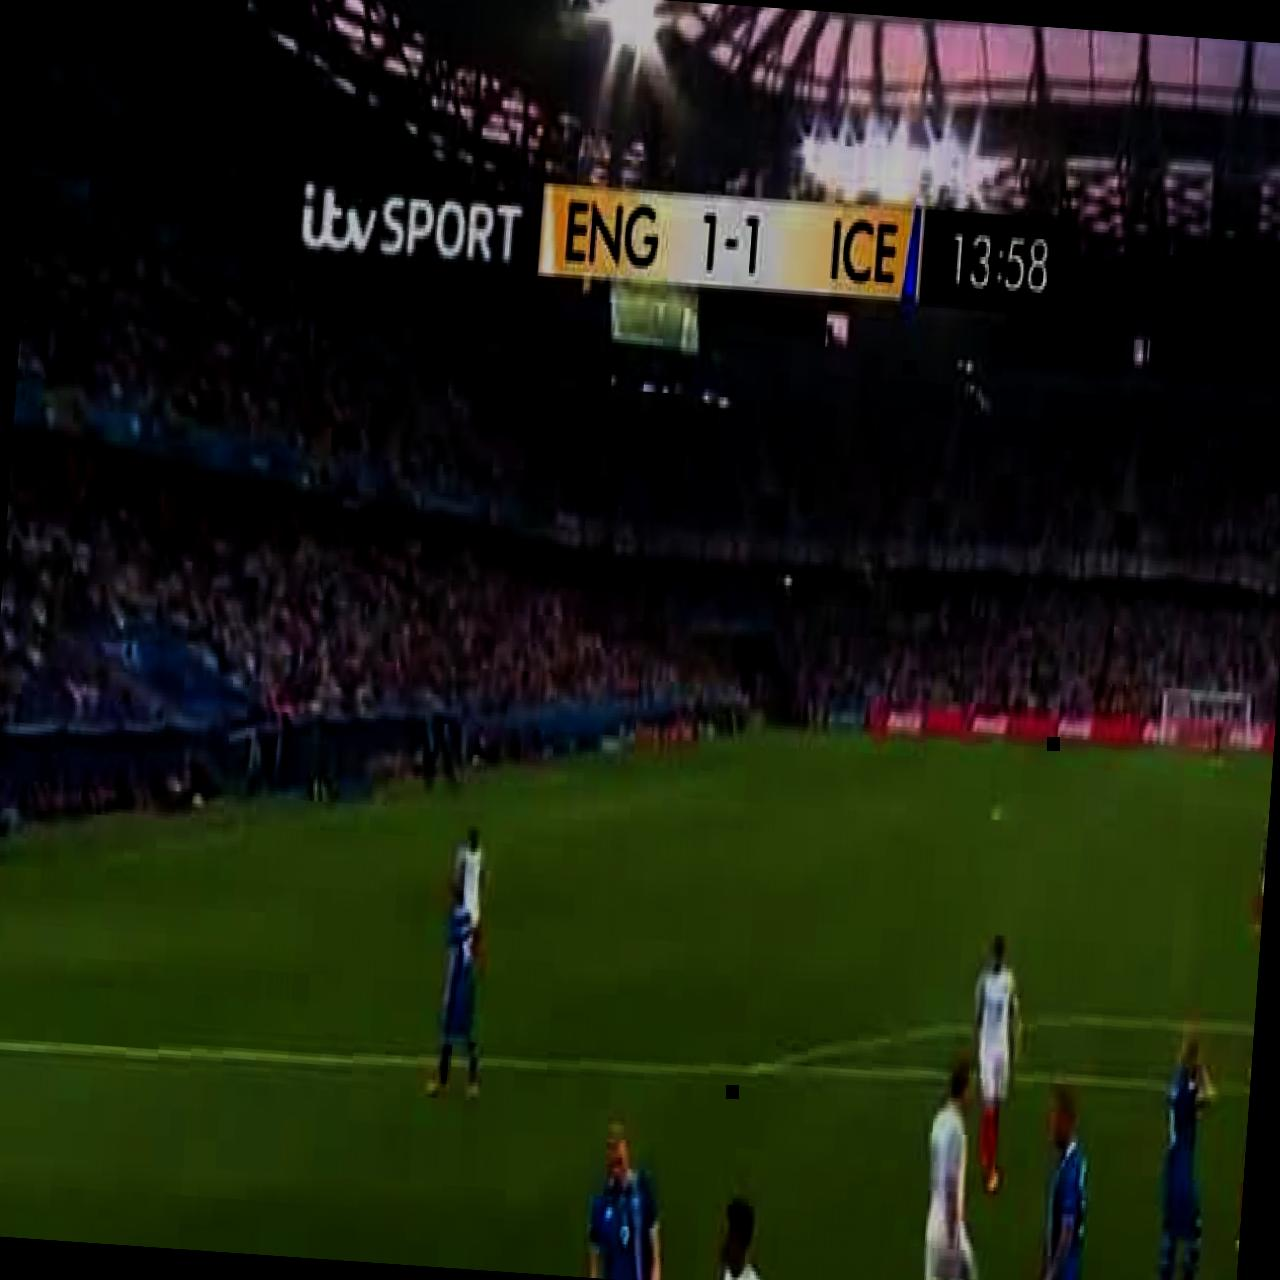football: (961, 936, 1030, 1202), (1148, 1022, 1215, 1280), (916, 1054, 992, 1280), (425, 887, 495, 1106), (579, 1116, 671, 1280), (1028, 1079, 1100, 1280), (1228, 967, 1258, 1269), (710, 1193, 793, 1280), (450, 829, 490, 975), (1250, 813, 1270, 943)
